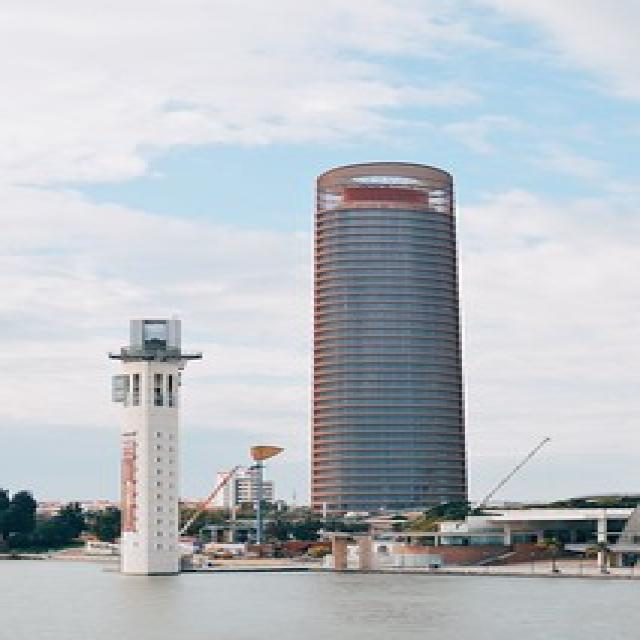Normal_building: (299, 160, 477, 526), (98, 309, 210, 579)
